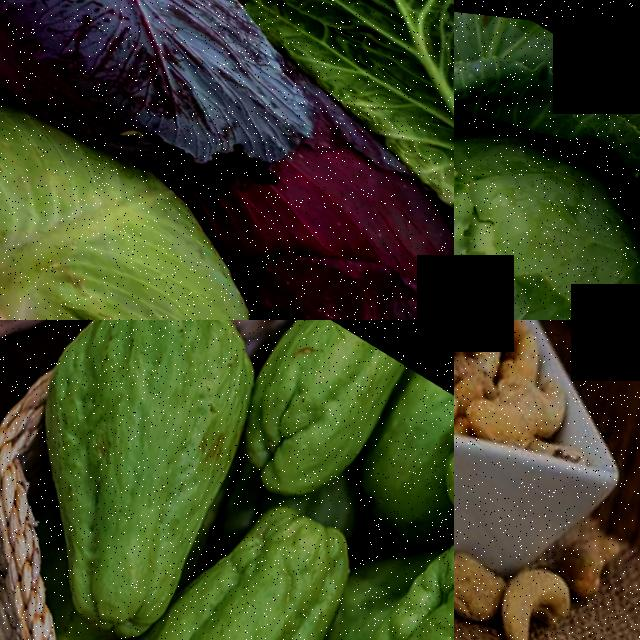cabbage: (0, 39, 307, 320), (0, 0, 321, 208), (454, 0, 640, 320)
cashew: (460, 522, 587, 640), (454, 370, 545, 473), (494, 351, 582, 438), (485, 320, 556, 386)
chayote: (0, 320, 320, 640), (68, 452, 390, 640), (222, 320, 420, 514), (352, 501, 454, 640), (400, 370, 454, 563)
